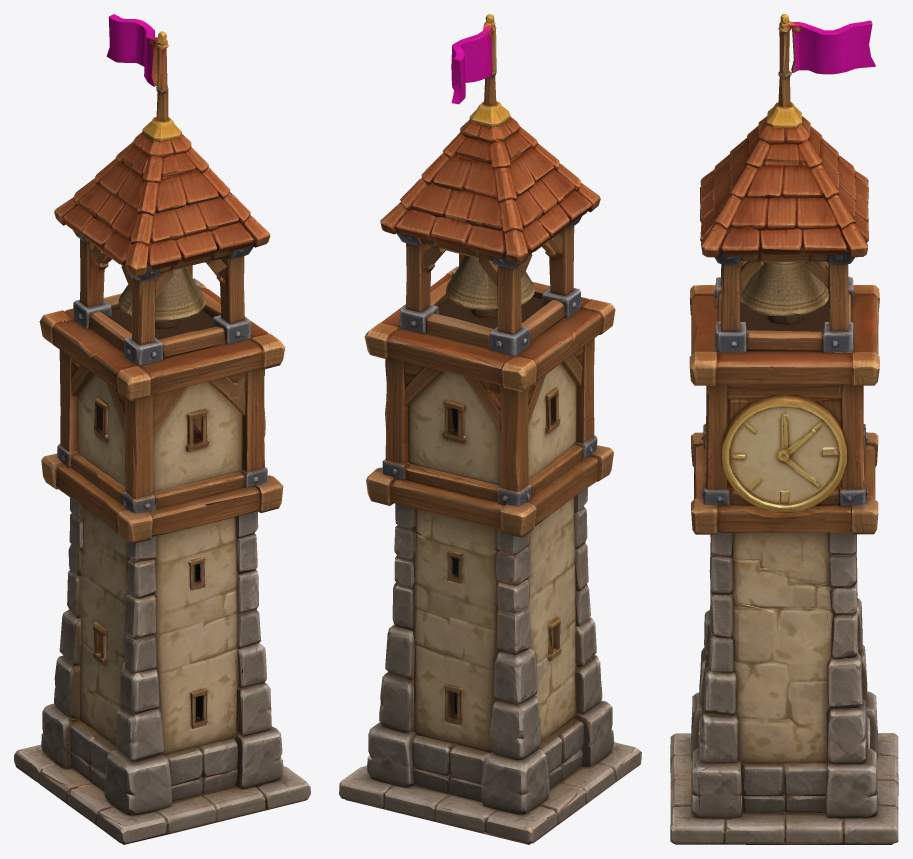
Rendered from clock.glb.
3 views of the same model, side by side, from view 1: azimuth 30°, elevation 25°; view 2: azimuth 150°, elevation 25°; view 3: azimuth 270°, elevation 25° (orthographic). The views are drawn at different scales.
Visible parts, largest first — view 1: Mesh_0; view 2: Mesh_0; view 3: Mesh_0.
Boxes of the visible parts, x1,y1,x2,y2 form: Mesh_0: (14,14,310,844); Mesh_0: (339,14,641,844); Mesh_0: (670,14,898,844).
Bounding box in the file's own units: 0.5017 × 1.9 × 0.5014.
1 material, 1 textured.
